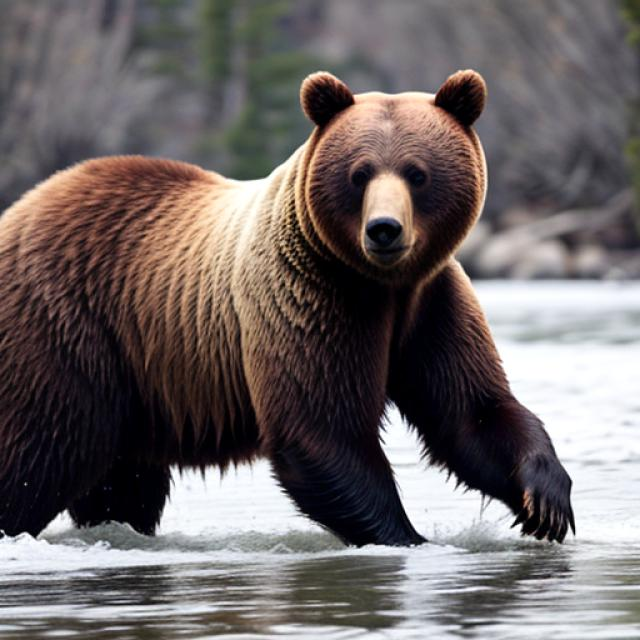bear: (0, 47, 536, 581)
